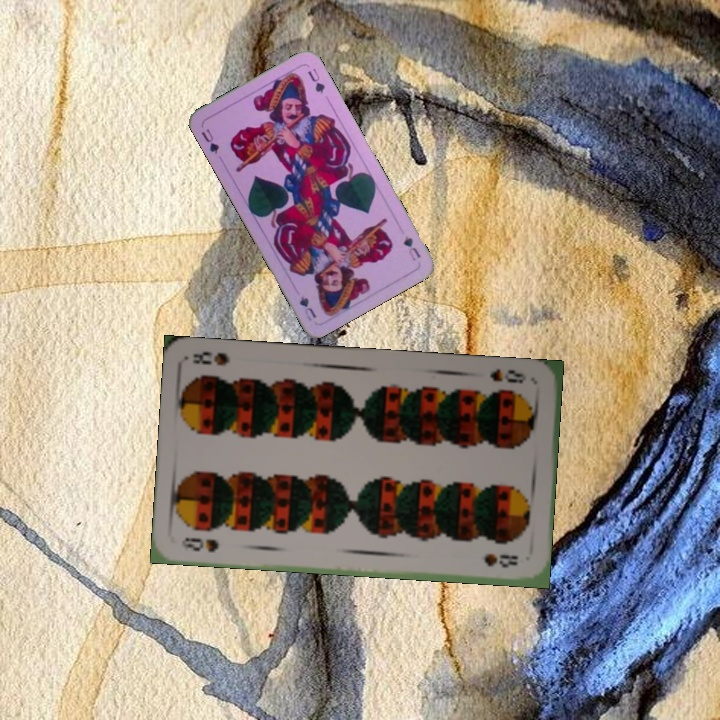GU: (197, 125, 222, 157), (399, 231, 423, 264)
S8: (485, 364, 528, 386), (178, 534, 221, 555)
